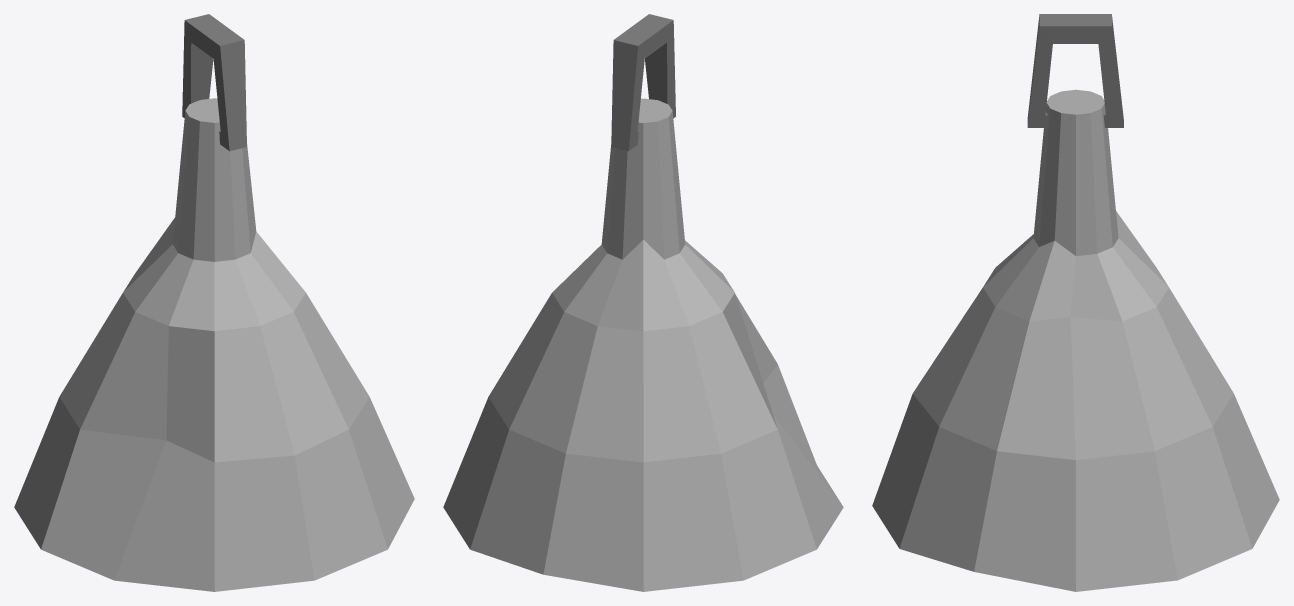
Rendered from Wh_Ceiling_Lamp.fbx.
3 views of the same model, side by side, from view 1: azimuth 30°, elevation 25°; view 2: azimuth 150°, elevation 25°; view 3: azimuth 270°, elevation 25° (orthographic).
Parts seen in each view (by area): view 1: Cylinder.045; view 2: Cylinder.045; view 3: Cylinder.045.
Boxes of the visible parts, <box> form: Cylinder.045: <box>14,14,414,591</box>; Cylinder.045: <box>443,14,843,591</box>; Cylinder.045: <box>872,14,1279,591</box>.
Size of the model in its own units: 70.11 by 92.18 by 70.11.
